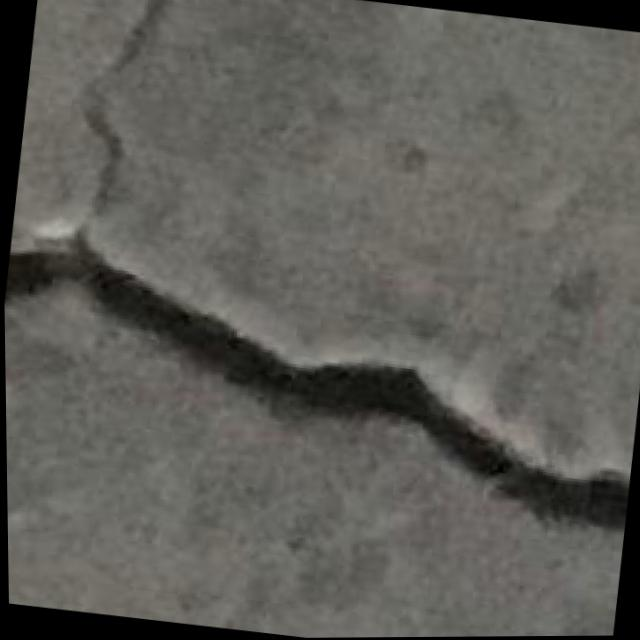Crack: (2, 208, 640, 575)
